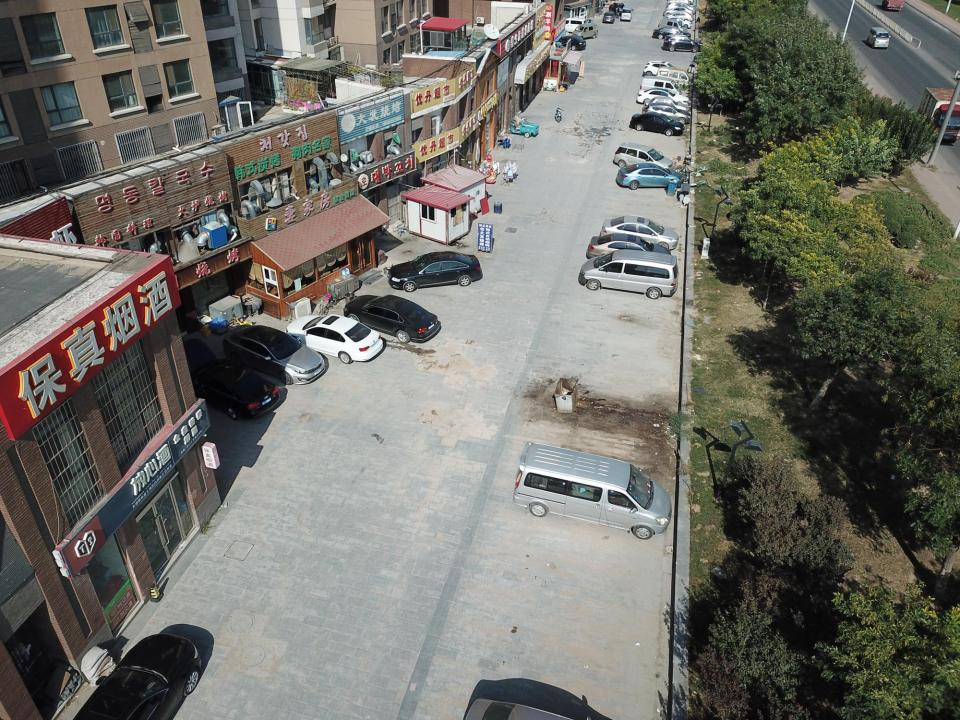car: (69, 619, 224, 720), (449, 676, 622, 718), (185, 356, 283, 416), (229, 325, 324, 375), (295, 316, 389, 364), (349, 292, 438, 342), (387, 248, 481, 290), (589, 234, 677, 266), (603, 212, 682, 243), (616, 164, 683, 192), (615, 142, 674, 170), (630, 111, 684, 139), (642, 104, 693, 124), (634, 88, 691, 105), (640, 75, 682, 94), (642, 60, 683, 78), (662, 36, 704, 52), (657, 66, 691, 85), (644, 98, 688, 112), (653, 27, 692, 39), (574, 23, 598, 39), (659, 18, 686, 32), (562, 36, 585, 50), (665, 1, 696, 11), (666, 7, 695, 16), (669, 12, 694, 21), (620, 6, 634, 21), (608, 2, 624, 12), (602, 11, 614, 23)
truck: (917, 84, 960, 146)
van: (507, 435, 675, 537), (581, 248, 678, 301), (868, 27, 892, 50), (563, 17, 589, 34)
